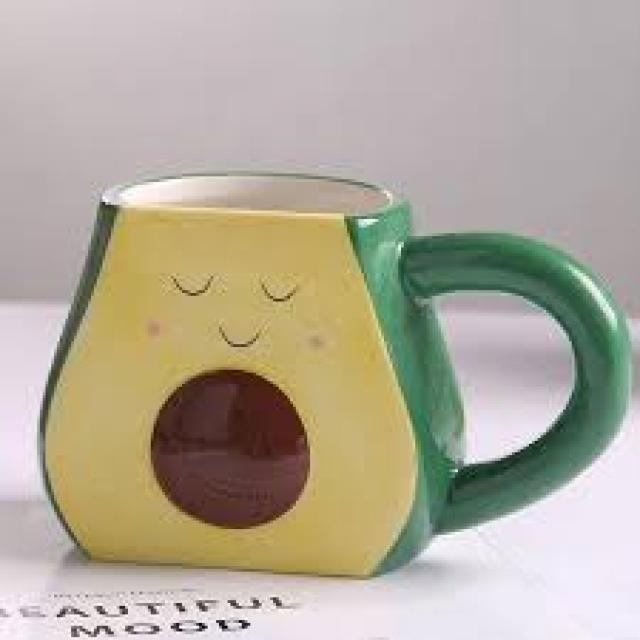taza: (37, 161, 633, 585)
